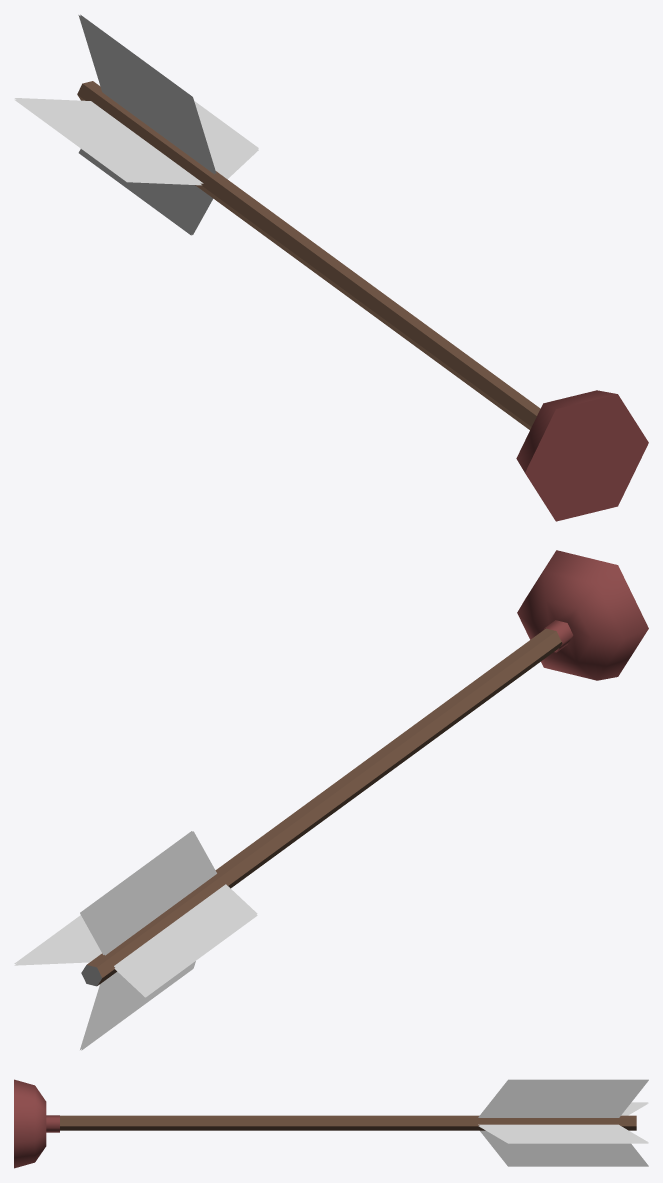
The model's file is Bullet_Crossbow.fbx.
3 renders of one model, top to bottom at view 1: azimuth 30°, elevation 25°; view 2: azimuth 150°, elevation 25°; view 3: azimuth 270°, elevation 25°, orthographic. The views are drawn at different scales.
Visible parts, largest first — view 1: polySurface40; view 2: polySurface40; view 3: polySurface40.
Part boxes in pixels (box(x1,y1,x2,y2)): polySurface40: box(14, 14, 648, 521); polySurface40: box(14, 550, 648, 1050); polySurface40: box(14, 1079, 648, 1168).
Size of the model in its own units: 4.23 by 4.23 by 28.2.
